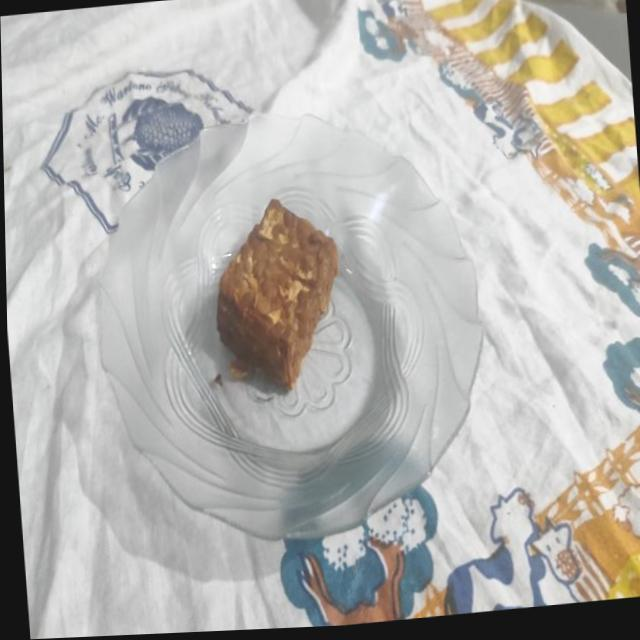tempe_goreng: (216, 200, 338, 390)
